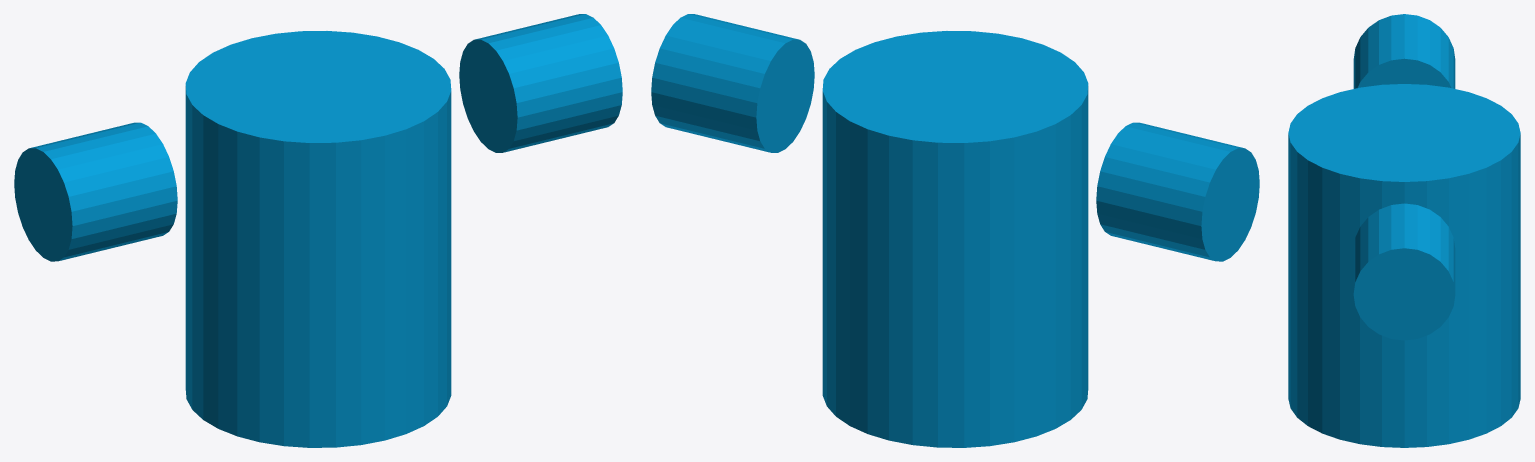
File: top_01.glb
3 views of the same model, side by side, from view 1: azimuth 30°, elevation 25°; view 2: azimuth 150°, elevation 25°; view 3: azimuth 270°, elevation 25° (orthographic). The views are drawn at different scales.
Parts seen in each view (by area): view 1: world; view 2: world; view 3: world.
Boxes of the visible parts, x1,y1,x2,y2 form: world: (14, 14, 622, 447); world: (651, 14, 1259, 447); world: (1288, 14, 1520, 447).
Bounding box in the file's own units: 1.36 × 0.725 × 0.57.
